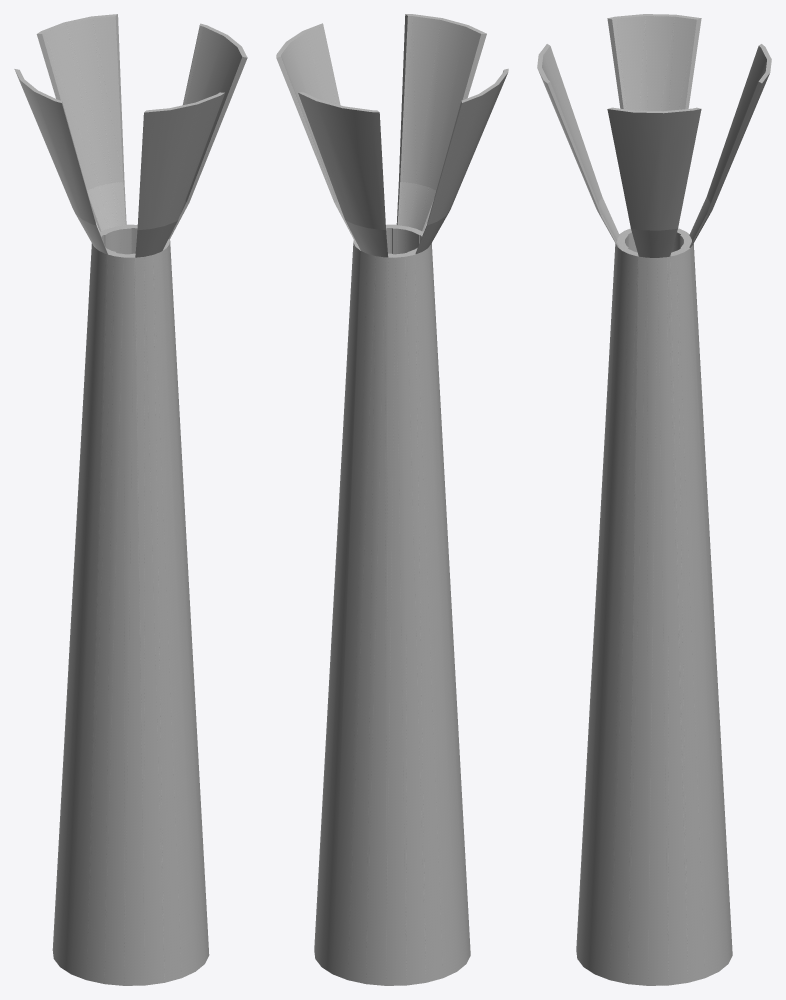
Rendered from FutureRing.fbx.
3 views of the same model, side by side, from view 1: azimuth 30°, elevation 25°; view 2: azimuth 150°, elevation 25°; view 3: azimuth 270°, elevation 25° (orthographic).
Visible parts, largest first — view 1: Model; view 2: Model; view 3: Model.
Boxes of the visible parts, x1,y1,x2,y2 form: Model: (14, 14, 247, 985); Model: (276, 14, 508, 985); Model: (537, 14, 771, 985).
Bounding box in the file's own units: 149 × 625 × 149.
